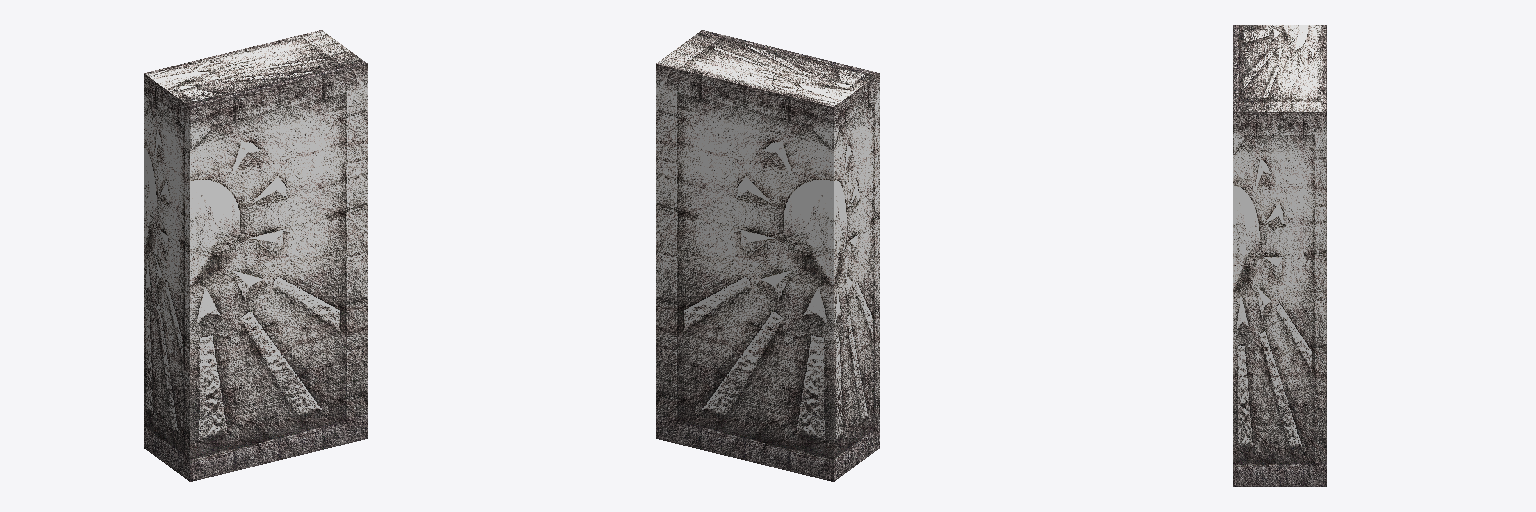
3 views of the same model, side by side, from view 1: azimuth 30°, elevation 25°; view 2: azimuth 150°, elevation 25°; view 3: azimuth 270°, elevation 25° (orthographic).
Visible parts, largest first — view 1: Object003, Object002; view 2: Object004, Object002; view 3: Object002.
Boxes of the visible parts, box(x1,y1,x2,y2) form: Object003: box(190, 64, 367, 481); Object002: box(144, 30, 367, 481); Object004: box(656, 64, 833, 481); Object002: box(656, 30, 879, 481); Object002: box(1233, 25, 1326, 486).
Size of the model in its own units: 15.71 by 31.63 by 7.13.
Materials: 2 (2 with a texture image).